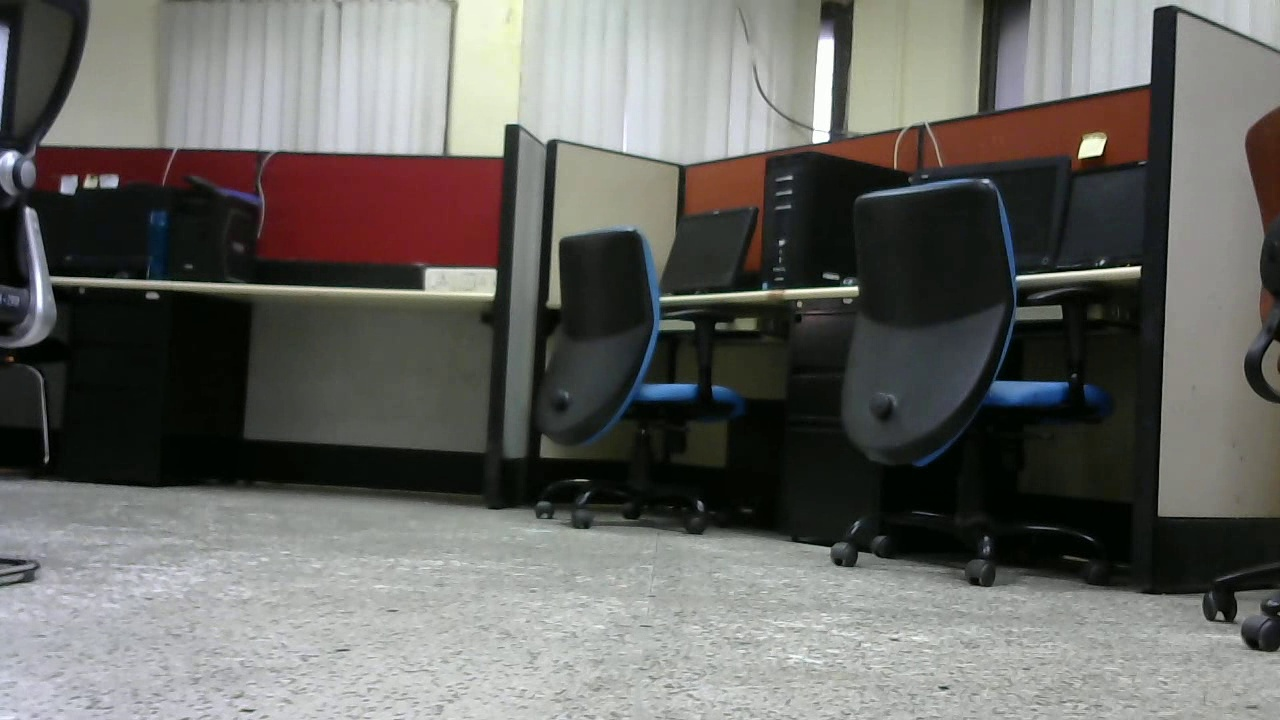chair: (801, 176, 1124, 588), (510, 218, 773, 541)
